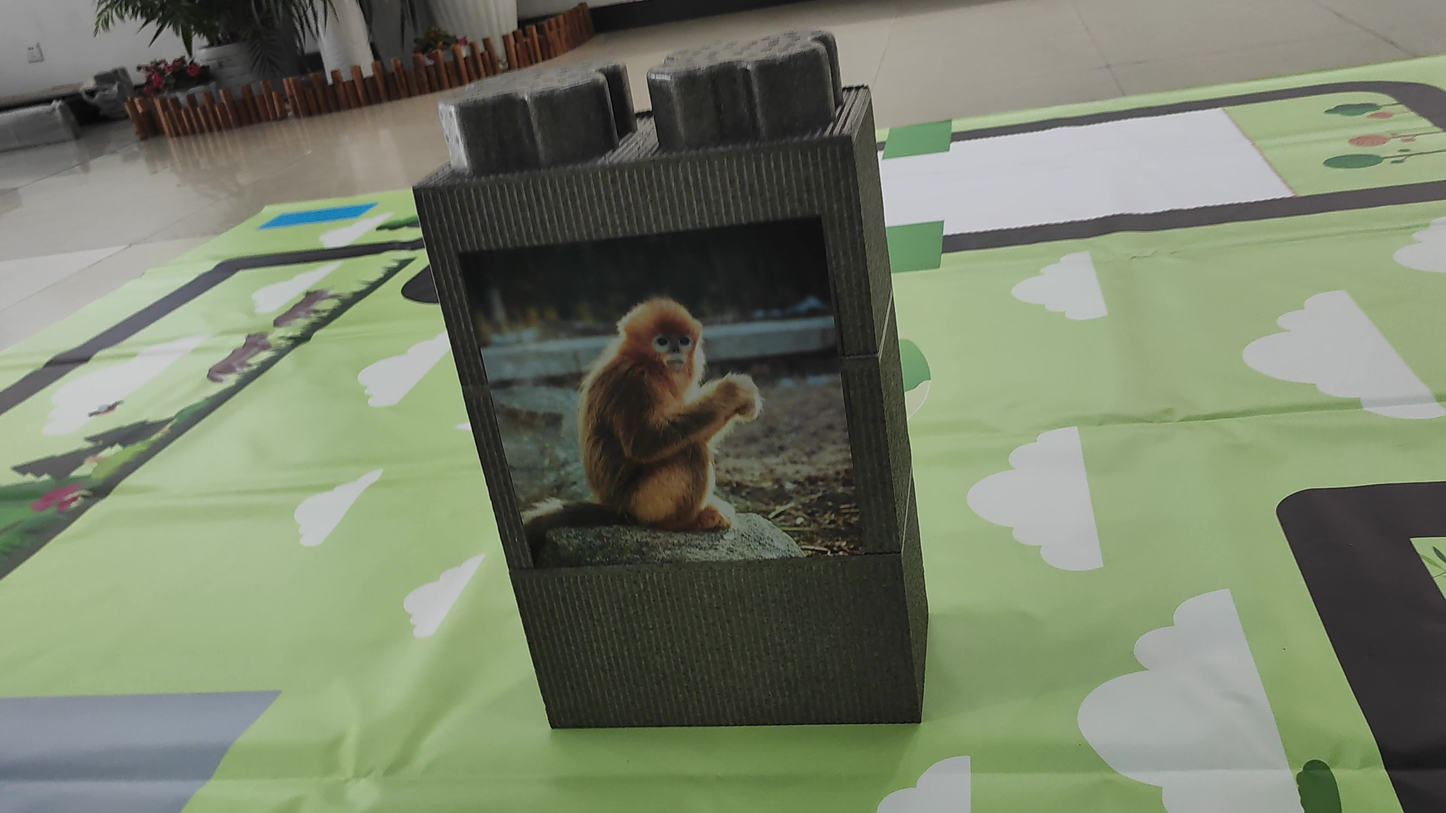monkey: (541, 257, 810, 533)
